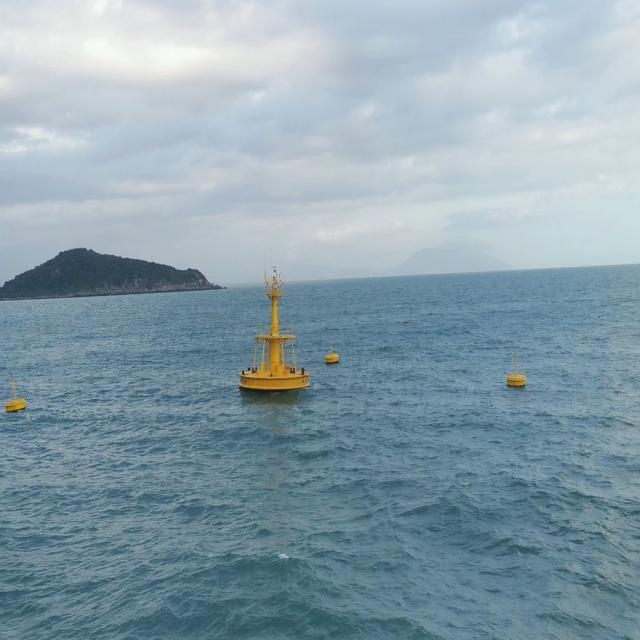buoy: (238, 264, 311, 394), (5, 372, 29, 415), (507, 351, 528, 389), (322, 336, 342, 366)
